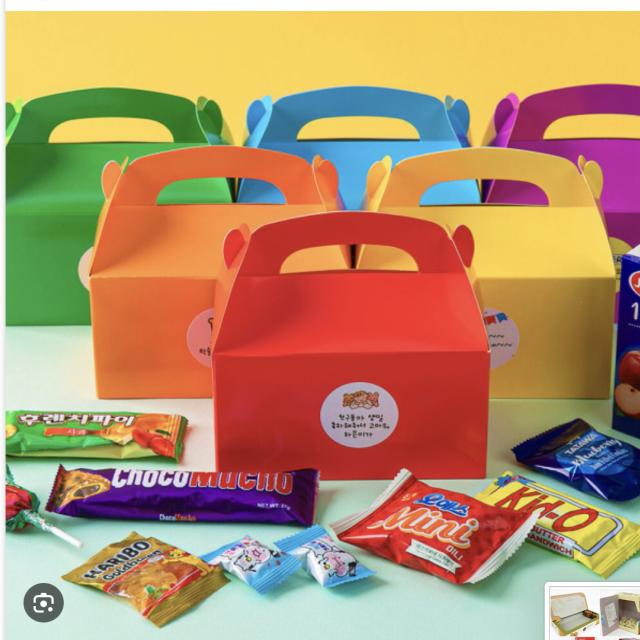biodegradable: (202, 202, 498, 488)
